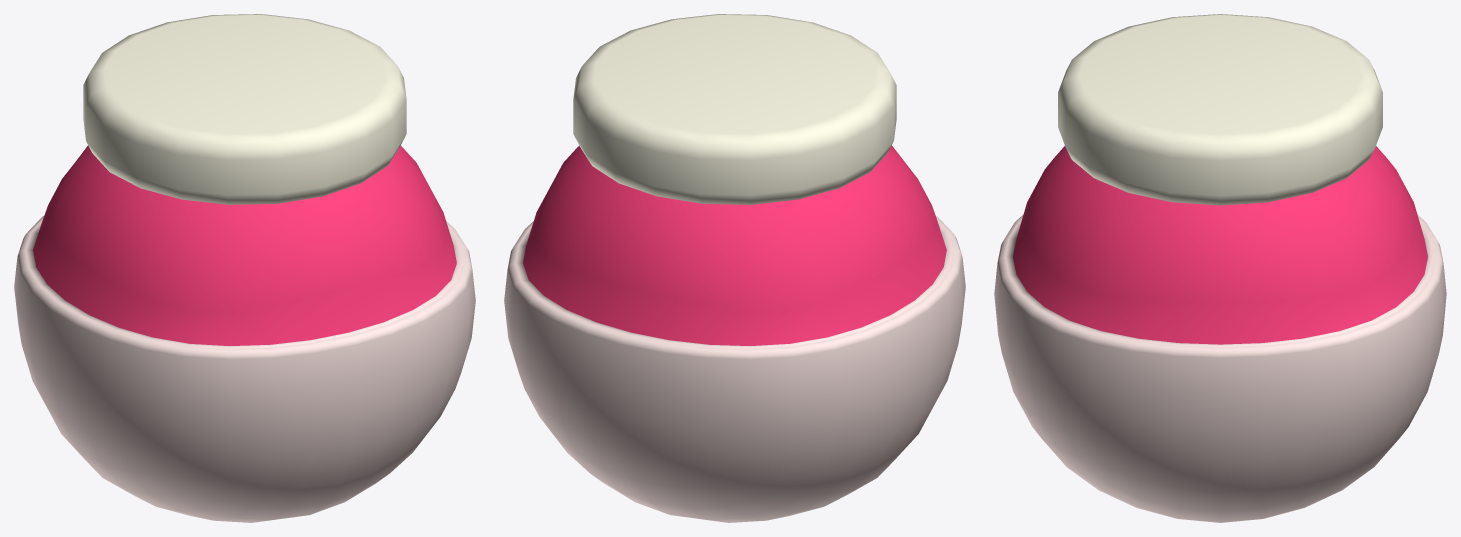
Rendered from Farm_17_Bottle_3.glb.
3 renders of one model, left to right at view 1: azimuth 30°, elevation 25°; view 2: azimuth 150°, elevation 25°; view 3: azimuth 270°, elevation 25°, orthographic.
Visible parts, largest first — view 1: Farm_17_Bottle_3; view 2: Farm_17_Bottle_3; view 3: Farm_17_Bottle_3.
Boxes of the visible parts, <box> form: Farm_17_Bottle_3: <box>14,14,475,522</box>; Farm_17_Bottle_3: <box>504,14,965,522</box>; Farm_17_Bottle_3: <box>994,14,1446,522</box>.
Bounding box in the file's own units: 0.3702 × 0.383 × 0.3702.
1 material, 1 textured.
